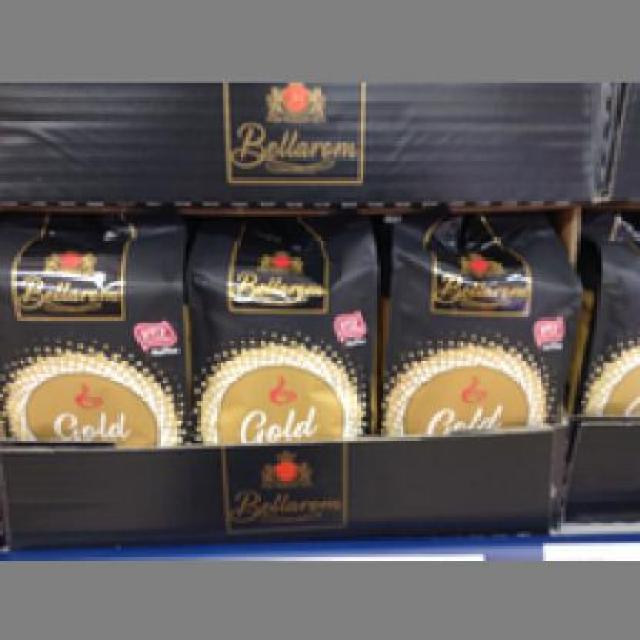Coffee: (0, 214, 192, 443), (186, 216, 374, 449), (377, 214, 574, 426)
